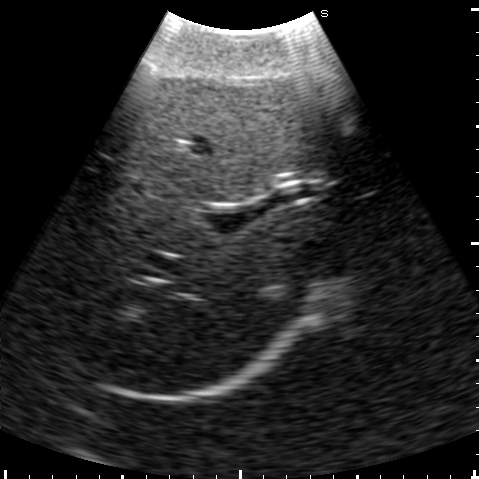IVC: (293, 243, 328, 266)
S1: (283, 203, 371, 249)
S3: (309, 66, 406, 193)
S4: (128, 71, 329, 202)
Tumor: (340, 117, 352, 134)
